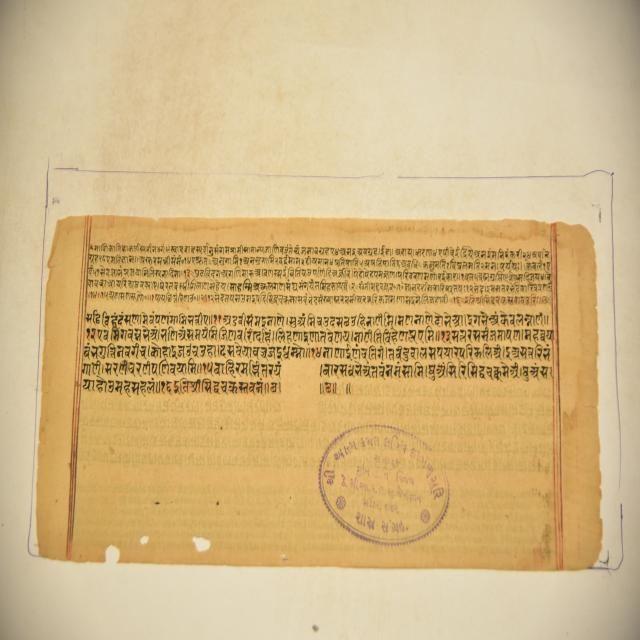text_paragraph: (36, 213, 602, 575)
